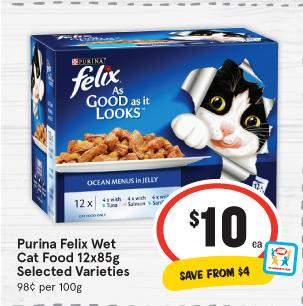description_block: (4, 229, 135, 281)
price_main: (176, 200, 264, 253)
product_image_block: (28, 21, 283, 210)
promo_text_block: (164, 259, 275, 291)
unit_price_block: (8, 279, 90, 299)
